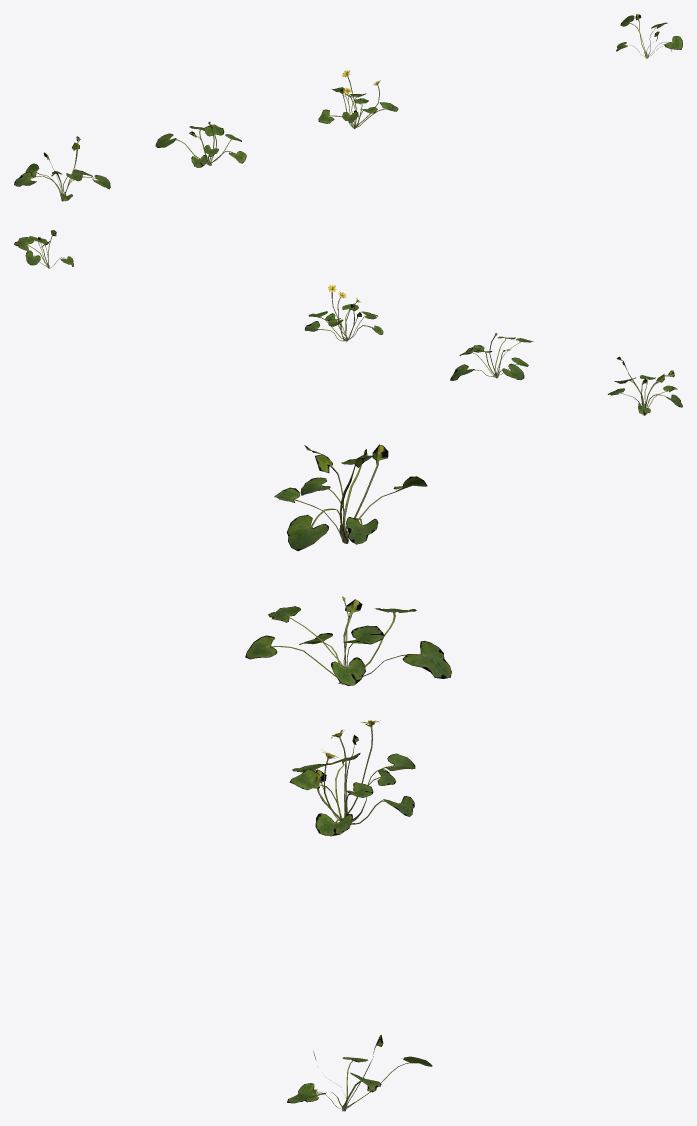
The model's file is celandine_01.glb.
3 renders of one model, top to bottom at view 1: azimuth 30°, elevation 25°; view 2: azimuth 150°, elevation 25°; view 3: azimuth 270°, elevation 25°, orthographic. The views are drawn at different scales.
Visible parts, largest first — view 1: celandine_01_b_LOD0, celandine_01_c_LOD0, celandine_01_a_LOD0, celandine_01_e_LOD0; view 2: celandine_01_c_LOD0, celandine_01_b_LOD0, celandine_01_a_LOD0, celandine_01_e_LOD0; view 3: celandine_01_b_LOD0, celandine_01_a_LOD0, celandine_01_c_LOD0, celandine_01_e_LOD0.
Part boxes in pixels (left/top/right/bottom): celandine_01_b_LOD0: left=155, top=122, right=246, bottom=167; celandine_01_c_LOD0: left=318, top=70, right=398, bottom=128; celandine_01_a_LOD0: left=14, top=136, right=110, bottom=201; celandine_01_e_LOD0: left=616, top=14, right=682, bottom=58; celandine_01_c_LOD0: left=304, top=284, right=383, bottom=341; celandine_01_b_LOD0: left=450, top=333, right=533, bottom=380; celandine_01_a_LOD0: left=608, top=356, right=682, bottom=415; celandine_01_e_LOD0: left=14, top=230, right=73, bottom=268; celandine_01_b_LOD0: left=245, top=596, right=451, bottom=685; celandine_01_a_LOD0: left=274, top=444, right=427, bottom=550; celandine_01_c_LOD0: left=289, top=720, right=415, bottom=836; celandine_01_e_LOD0: left=287, top=1035, right=432, bottom=1111.
Size of the model in its own units: 2.24 by 0.1858 by 0.3067.
Materials: 1 (1 with a texture image).
